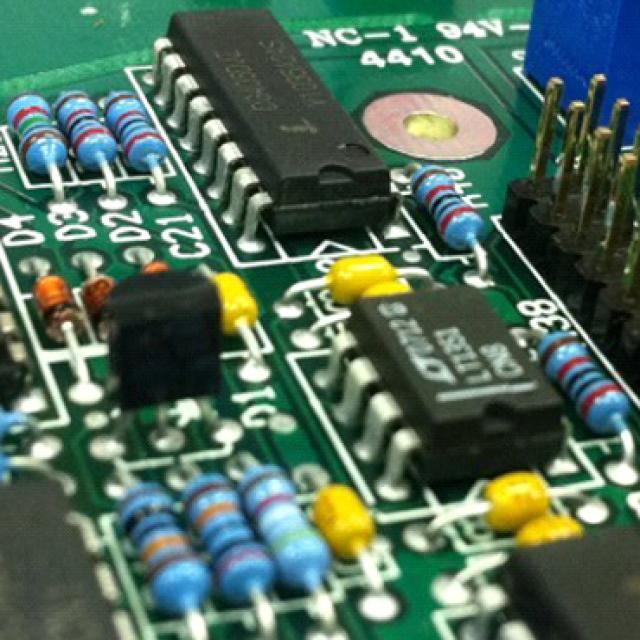IC: (142, 0, 403, 254), (329, 286, 562, 497)
resistor: (173, 468, 275, 630), (240, 448, 330, 600), (546, 325, 624, 455), (121, 489, 197, 617), (47, 73, 121, 184), (408, 168, 482, 273), (8, 71, 67, 199), (112, 77, 164, 188)
transistor: (108, 280, 242, 454)
zener diode: (22, 250, 95, 408)
